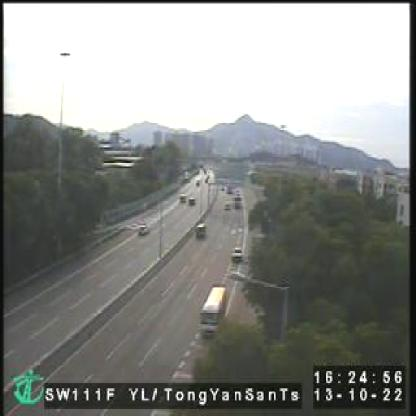Bus: (198, 285, 226, 335)
Car: (194, 222, 208, 241), (230, 245, 243, 262), (138, 223, 150, 238)
